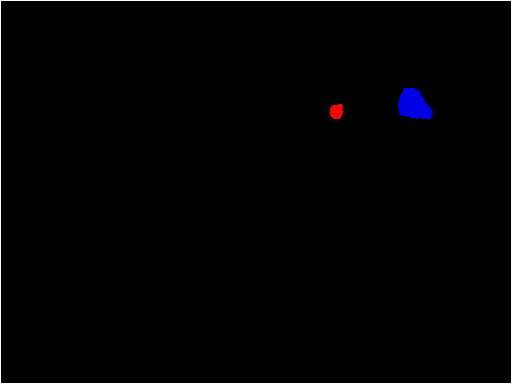chipped: (401, 89, 423, 118)
detached: (326, 102, 343, 120)
